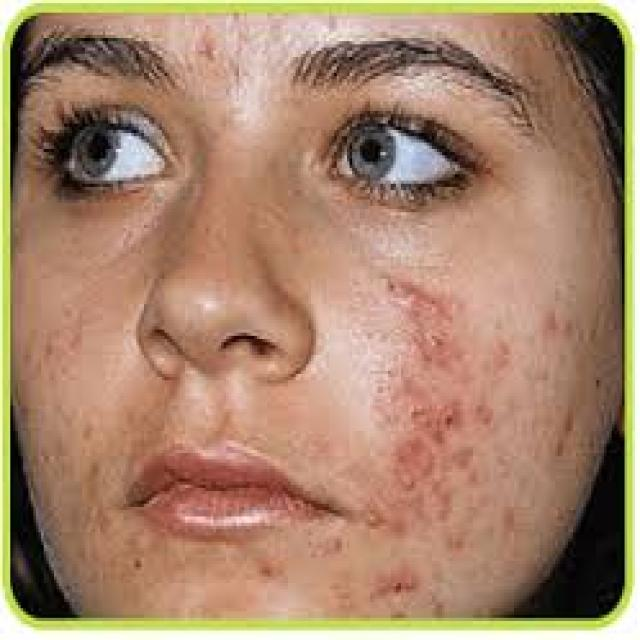Acne: (368, 266, 516, 620), (30, 300, 144, 581)
